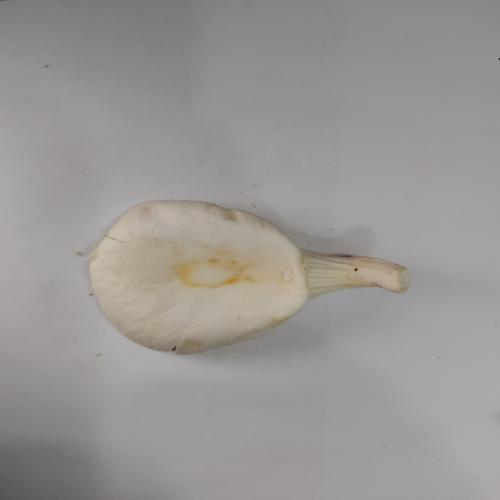Oyster Mushroom: (86, 198, 410, 356)
